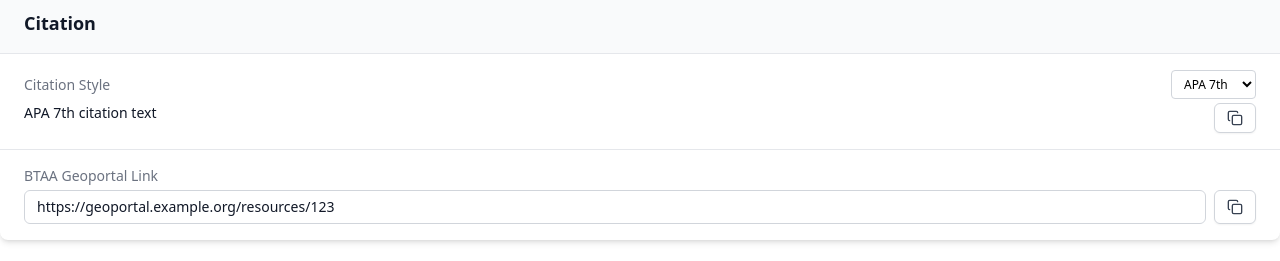
Test: CitationTable › switches displayed citation when style selector changes
Expected: the text "APA 7th citation text" is shown, [24,103,156,122]
Select "MLA 9th" in the dropdown at (1214, 84), box [1171,70,1256,99]
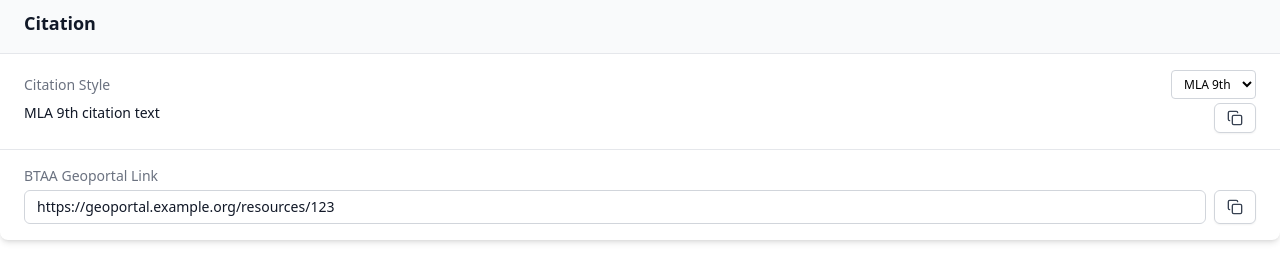
Expected: the text "MLA 9th citation text" is shown, [24,103,160,122]
